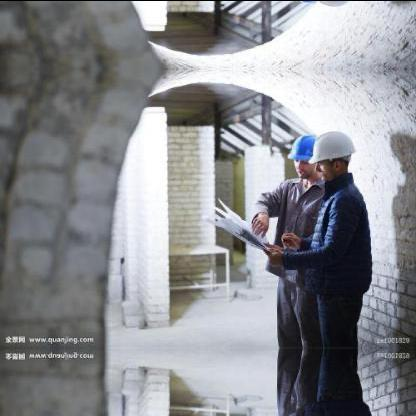Helmet: (308, 128, 354, 180), (286, 132, 326, 180)
